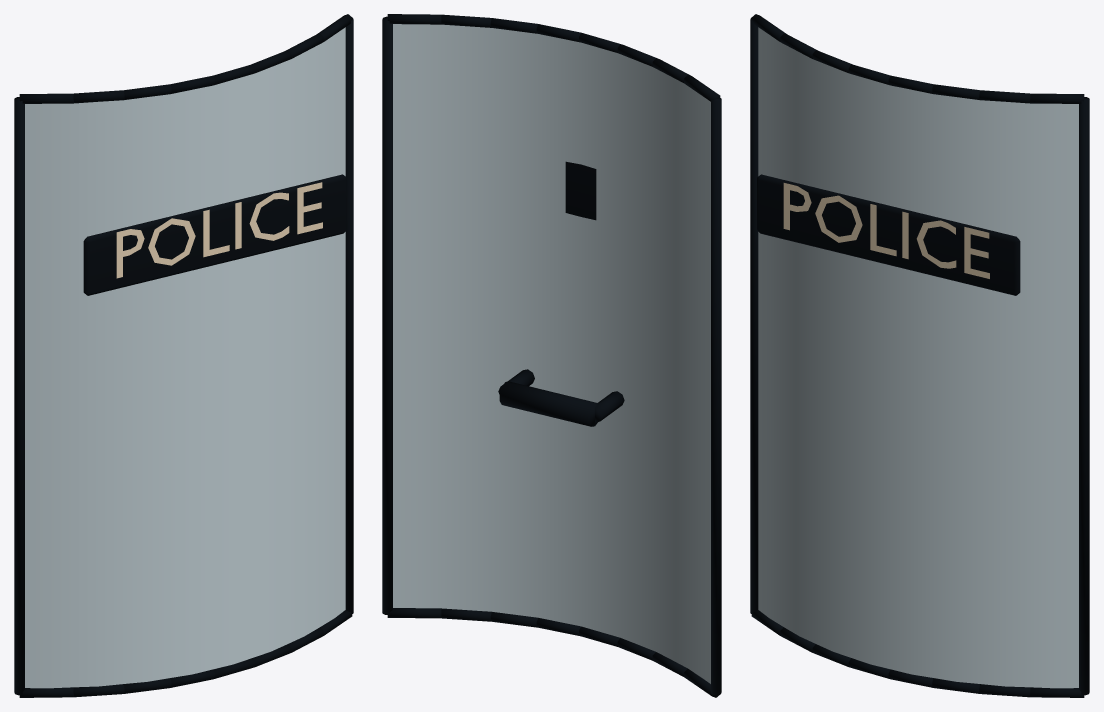
Rendered from crs-shield.glb.
The picture shows the model from 3 angles, left to right: view 1: azimuth 30°, elevation 25°; view 2: azimuth 150°, elevation 25°; view 3: azimuth 330°, elevation 25°; orthographic projection.
Visible parts, largest first — view 1: shield-panel, shield-frame; view 2: shield-panel, shield-frame; view 3: shield-panel, shield-frame.
Part boxes in pixels (<box>): shield-panel: <box>25,27,345,688</box>; shield-frame: <box>14,14,353,697</box>; shield-panel: <box>393,24,710,683</box>; shield-frame: <box>382,14,721,697</box>; shield-panel: <box>758,27,1078,688</box>; shield-frame: <box>750,14,1089,697</box>.
Size of the model in its own units: 0.566 by 0.966 by 0.1221.
2 materials, 1 textured.
